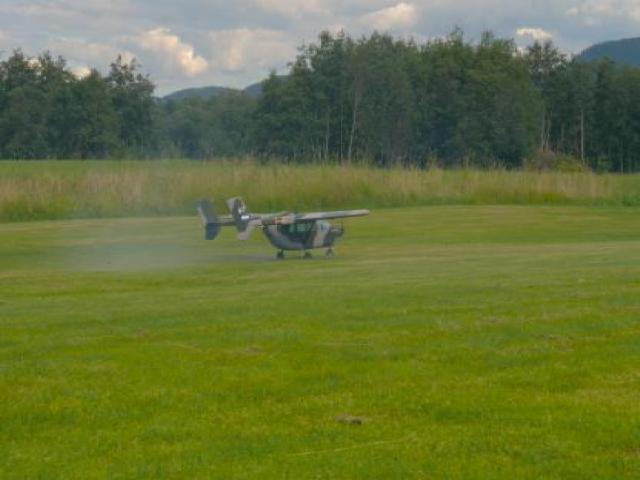uav: (193, 194, 372, 255)
